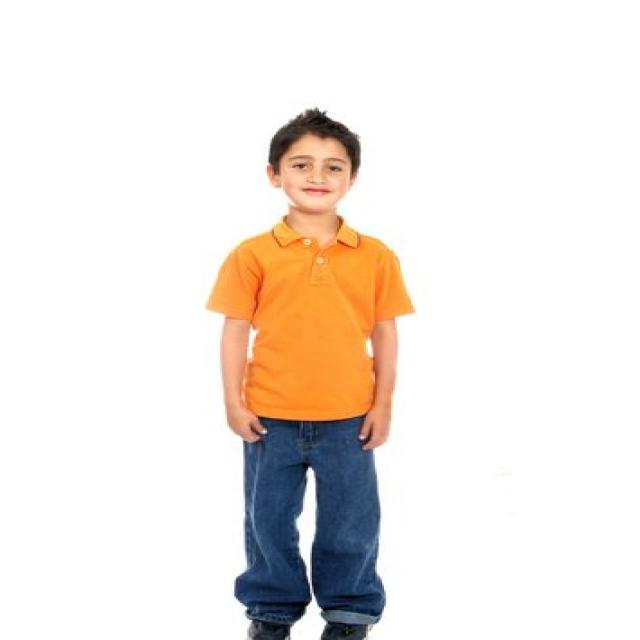child: (195, 101, 416, 636)
